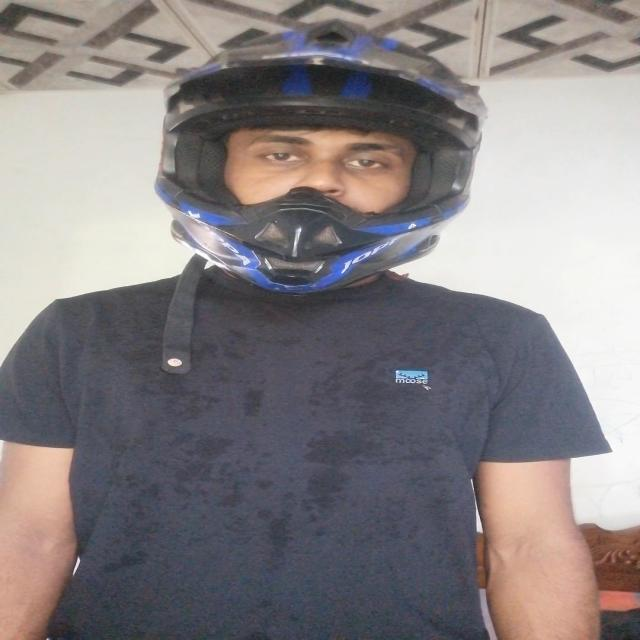Helmet_Wearer: (128, 31, 482, 288)
Person: (0, 30, 636, 640)
